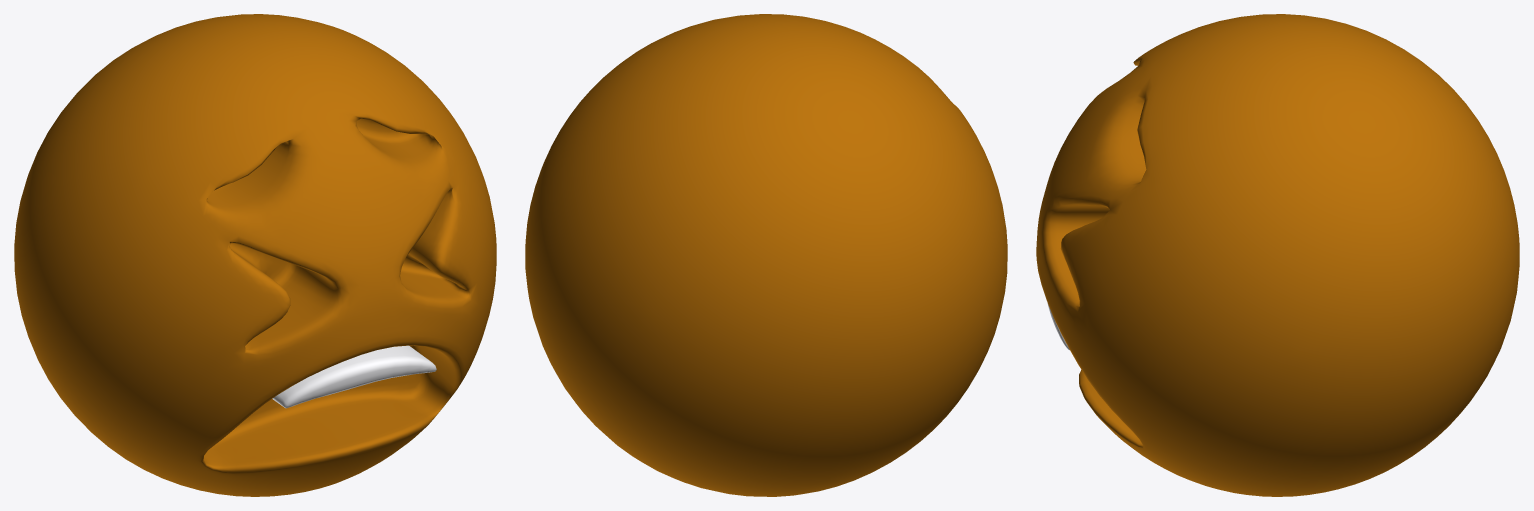
The model's file is tired.FBX.
3 views of the same model, side by side, from view 1: azimuth 30°, elevation 25°; view 2: azimuth 150°, elevation 25°; view 3: azimuth 270°, elevation 25° (orthographic).
Visible parts, largest first — view 1: Group3677, Group46811; view 2: Group3677; view 3: Group3677.
Boxes of the visible parts, <box> form: Group3677: <box>14,14,496,496</box>; Group46811: <box>272,345,436,408</box>; Group3677: <box>525,14,1007,496</box>; Group3677: <box>1036,14,1519,496</box>.
Size of the model in its own units: 23.43 by 23.45 by 23.45.
